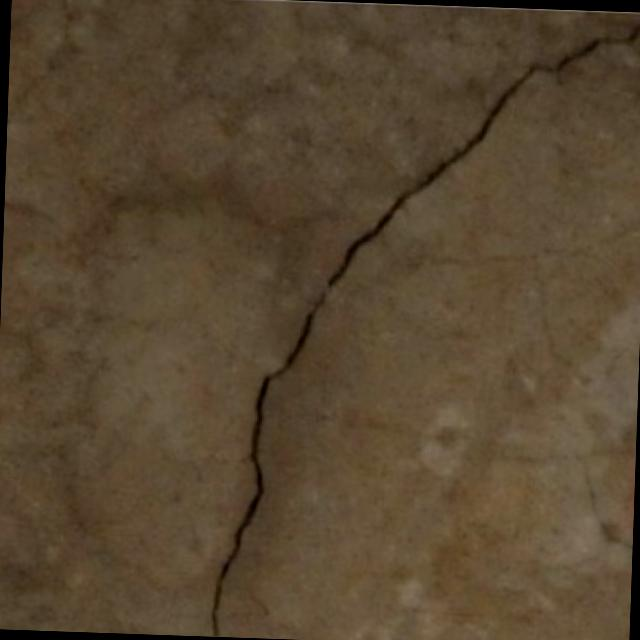crack: (332, 7, 640, 284), (203, 270, 347, 640)
